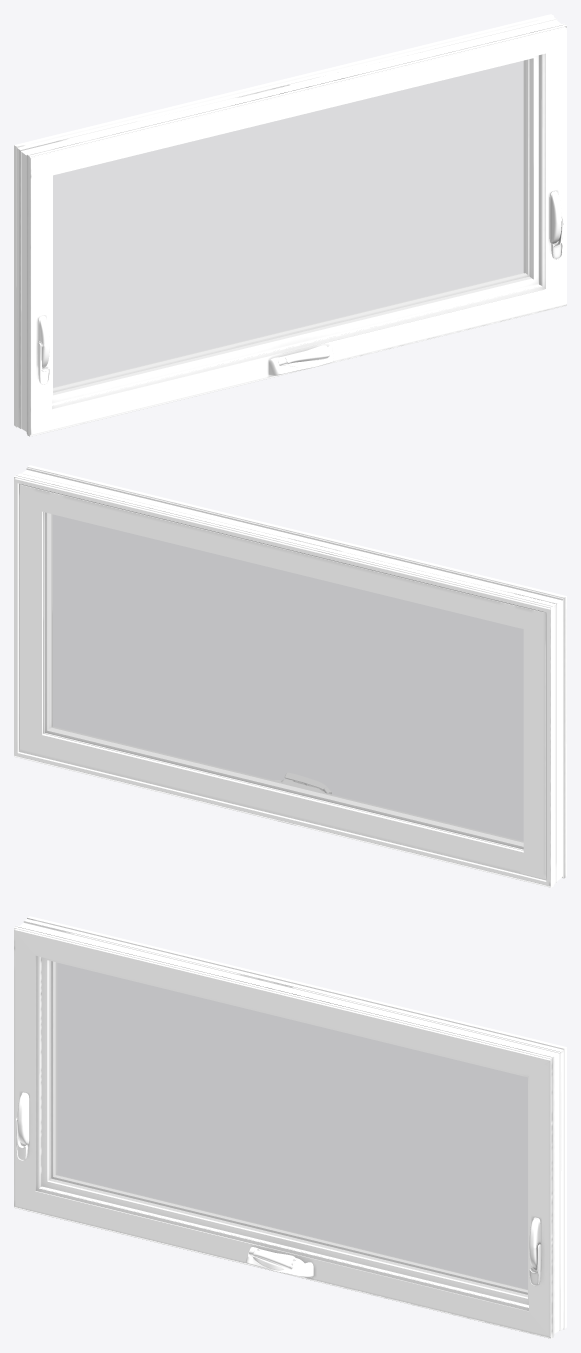
File: AwningWindow.glb
3 renders of one model, top to bottom at view 1: azimuth 30°, elevation 25°; view 2: azimuth 150°, elevation 25°; view 3: azimuth 330°, elevation 25°, orthographic.
Parts seen in each view (by area): view 1: Cube.002, RetopoFlow, Handle Body.001, Handle Body.004, Handle Body.005; view 2: Cube.002, RetopoFlow; view 3: Cube.002, RetopoFlow, Handle Body.001, Handle Body.005, Handle Body.004.
Boxes of the visible parts, box(x1,y1,x2,y2) form: Cube.002: box(53, 59, 531, 394); RetopoFlow: box(14, 14, 566, 436); Handle Body.001: box(268, 345, 333, 375); Handle Body.004: box(549, 191, 563, 259); Handle Body.005: box(37, 315, 49, 384); Cube.002: box(45, 513, 523, 848); RetopoFlow: box(14, 465, 566, 887); Cube.002: box(49, 961, 527, 1296); RetopoFlow: box(14, 916, 566, 1338); Handle Body.001: box(245, 1247, 313, 1277); Handle Body.005: box(16, 1092, 29, 1160); Handle Body.004: box(529, 1217, 541, 1286).
Size of the model in its own units: 0.5978 by 0.2989 by 0.055.
5 materials, 4 textured.
